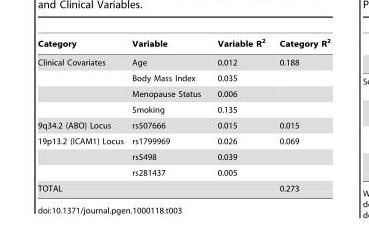table: (37, 37, 330, 192)
table column: (37, 37, 127, 192), (127, 37, 208, 192), (208, 37, 271, 192), (271, 37, 330, 192)
table column header: (37, 37, 330, 52)
table row: (37, 52, 330, 70), (37, 85, 330, 101), (37, 101, 330, 117), (37, 117, 330, 133), (37, 148, 330, 164), (37, 164, 330, 180), (37, 37, 330, 52), (37, 70, 330, 85), (37, 133, 330, 148), (37, 180, 330, 192)
table spanning cell: (37, 52, 127, 117), (37, 133, 127, 180)
